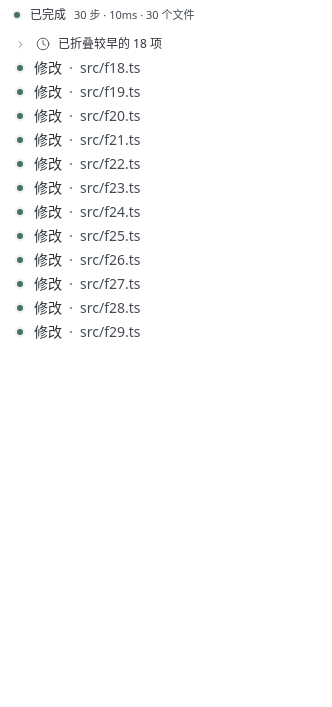
Scenario: 聚合与长任务 › 长任务（已结束、段数超门槛）把早期步骤折成一行，展开仍是真实段
# 折叠行展开后能看到最早的那一段（真实的一行）
Step 1. Click the button "已折叠较早的 18 项" → click(88, 44), box [14,35,162,52]
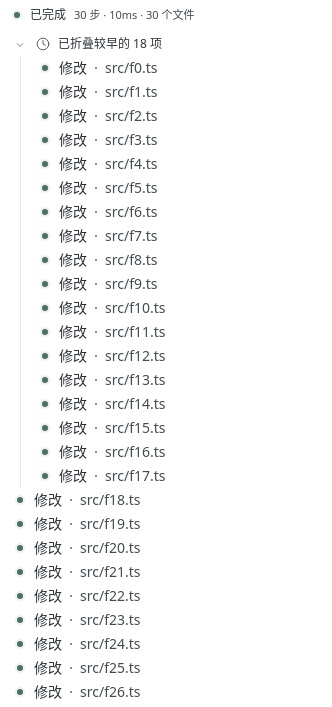
Now the text "f0.ts" is shown, box [105,58,158,77]
